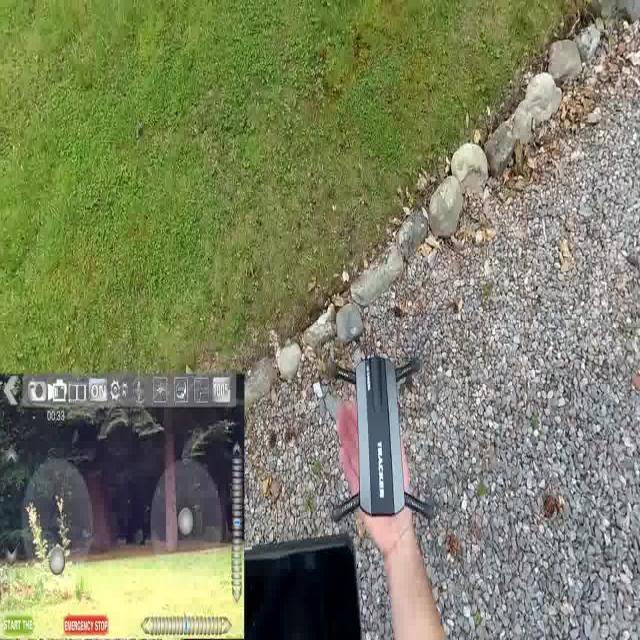drones: (314, 314, 458, 570)
